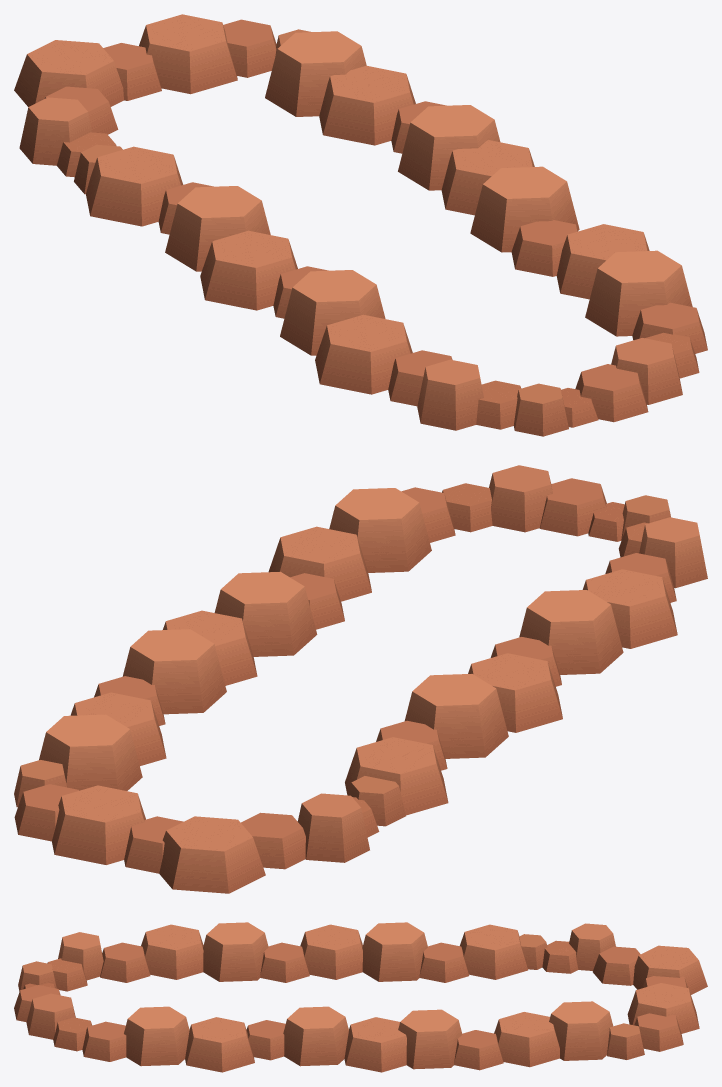
The model's file is grave-border.004_lev2.glb.
3 renders of one model, top to bottom at view 1: azimuth 30°, elevation 25°; view 2: azimuth 150°, elevation 25°; view 3: azimuth 270°, elevation 25°, orthographic. The views are drawn at different scales.
Visible parts, largest first — view 1: grave-border.004_lev2; view 2: grave-border.004_lev2; view 3: grave-border.004_lev2.
Boxes of the visible parts, x1=… form: grave-border.004_lev2: x1=14, y1=14, x2=707, y2=436; grave-border.004_lev2: x1=14, y1=465, x2=707, y2=893; grave-border.004_lev2: x1=14, y1=922, x2=707, y2=1072.
Size of the model in its own units: 0.5243 by 0.0655 by 1.22.
1 material, 1 textured.
